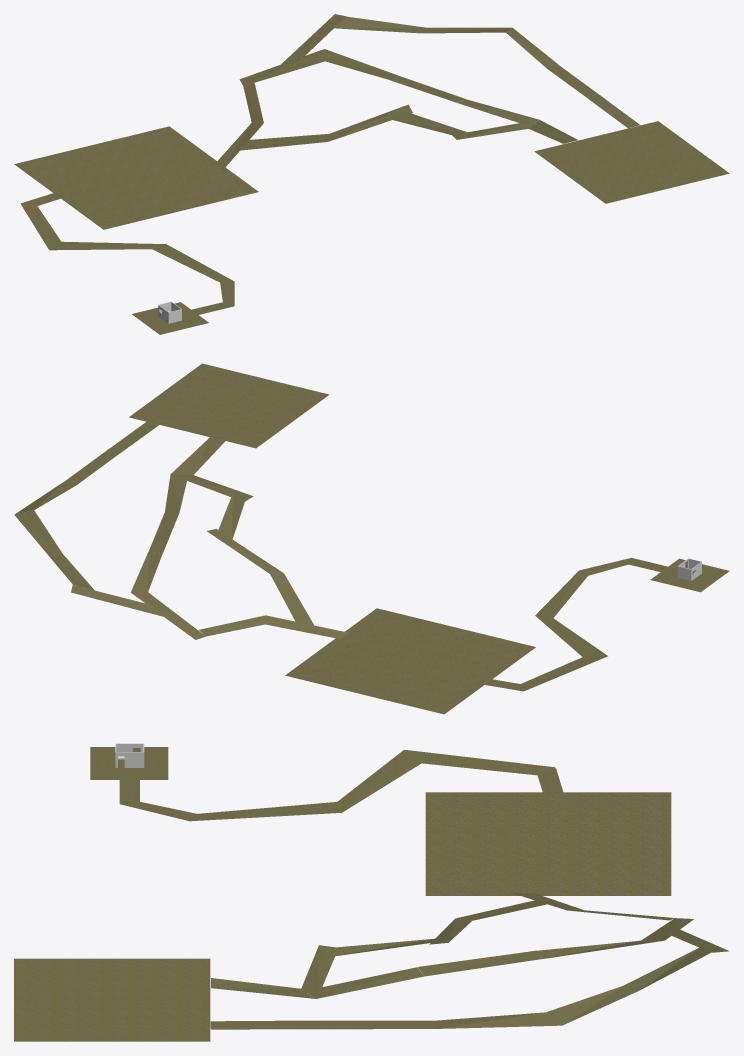
Rendered from path_layout_new.glb.
3 renders of one model, top to bottom at view 1: azimuth 30°, elevation 25°; view 2: azimuth 150°, elevation 25°; view 3: azimuth 270°, elevation 25°, orthographic. The views are drawn at different scales.
Visible parts, largest first — view 1: path, PLANE_01, PLANE_02, PLANE_03; view 2: path, PLANE_01, PLANE_02, PLANE_03; view 3: PLANE_01, path, PLANE_02, PLANE_03.
Part boxes in pixels (box(x1,y1,x2,y2)): path: box(20, 14, 640, 323); PLANE_01: box(14, 126, 258, 229); PLANE_02: box(534, 121, 729, 203); PLANE_03: box(132, 302, 208, 334); path: box(14, 422, 701, 691); PLANE_01: box(285, 608, 535, 714); PLANE_02: box(129, 363, 329, 448); PLANE_03: box(650, 558, 729, 592); PLANE_01: box(425, 792, 671, 895); path: box(115, 743, 729, 1029); PLANE_02: box(14, 958, 210, 1041); PLANE_03: box(90, 747, 168, 779).
Bounding box in the file's own units: 126 × 13.4 × 105.
2 materials, 2 textured.
